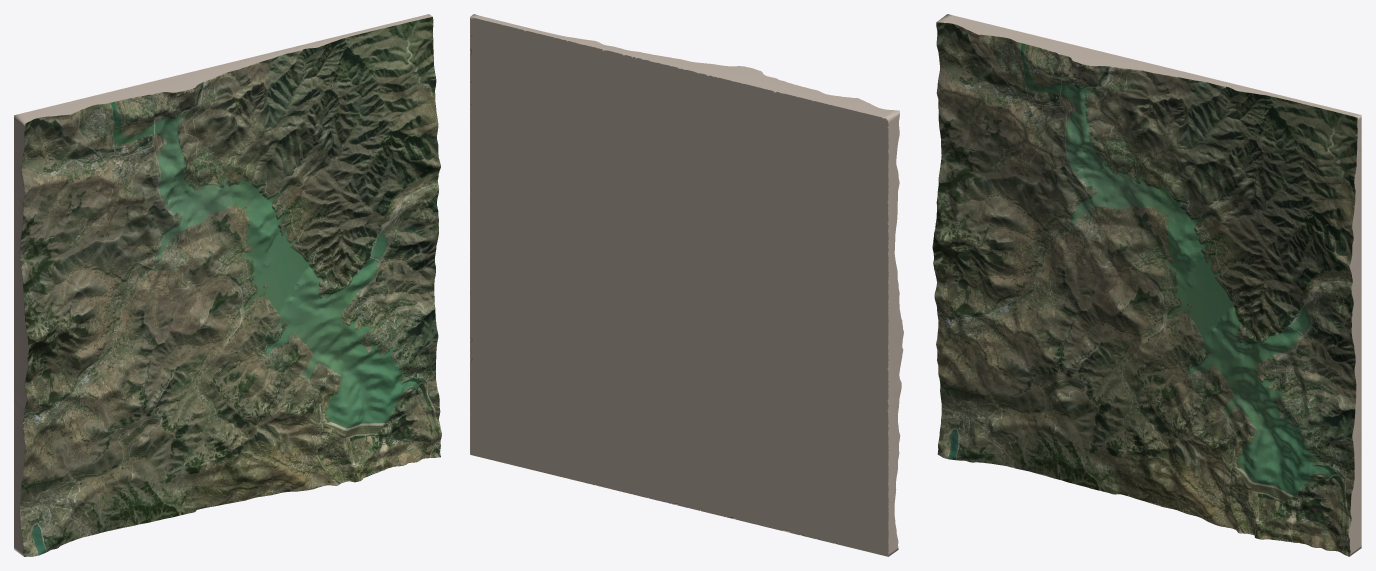
File: terrain_textured.glb
3 renders of one model, left to right at view 1: azimuth 30°, elevation 25°; view 2: azimuth 150°, elevation 25°; view 3: azimuth 330°, elevation 25°, orthographic.
Visible parts, largest first — view 1: mesh; view 2: mesh; view 3: mesh.
Boxes of the visible parts, bbox=[...] form: mesh: bbox=[14, 14, 441, 556]; mesh: bbox=[470, 14, 903, 556]; mesh: bbox=[932, 14, 1361, 556].
Size of the model in its own units: 7860 by 7860 by 602.
Materials: 2 (1 with a texture image).
